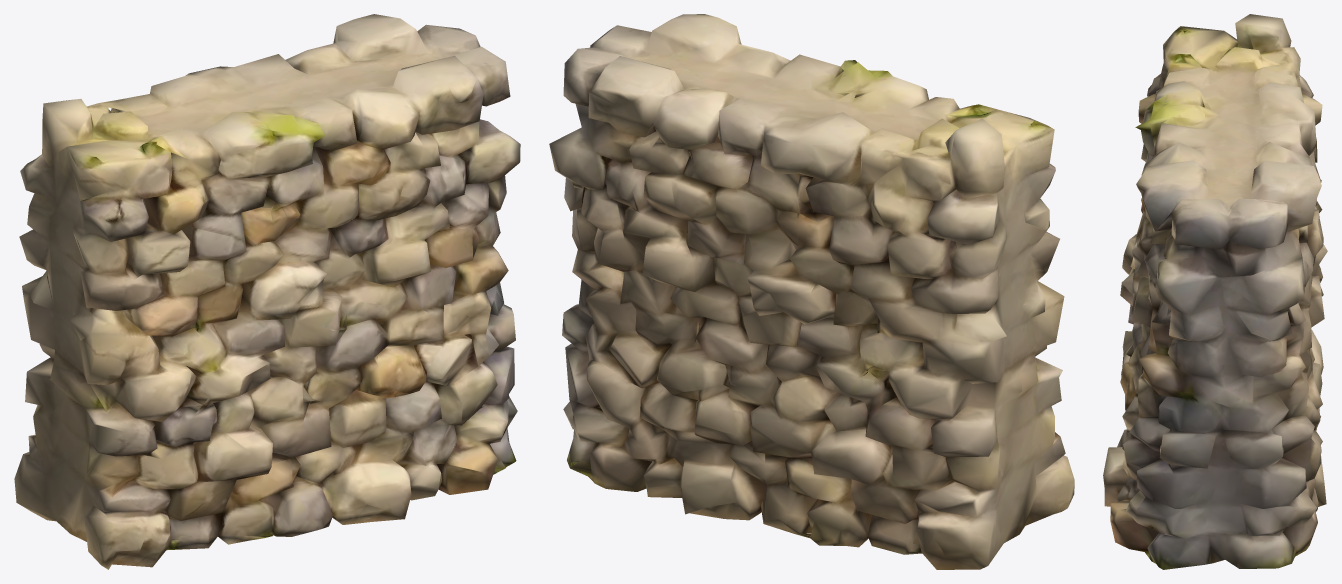
The model's file is wall-high.glb.
3 renders of one model, left to right at view 1: azimuth 30°, elevation 25°; view 2: azimuth 150°, elevation 25°; view 3: azimuth 270°, elevation 25°, orthographic. The views are drawn at different scales.
Visible parts, largest first — view 1: tripo_node_3a8524d1-698c-411f-b315-bb82bf24e875; view 2: tripo_node_3a8524d1-698c-411f-b315-bb82bf24e875; view 3: tripo_node_3a8524d1-698c-411f-b315-bb82bf24e875.
Boxes of the visible parts, box(x1,y1,x2,y2) form: tripo_node_3a8524d1-698c-411f-b315-bb82bf24e875: box(14, 14, 520, 569); tripo_node_3a8524d1-698c-411f-b315-bb82bf24e875: box(549, 14, 1074, 569); tripo_node_3a8524d1-698c-411f-b315-bb82bf24e875: box(1103, 14, 1327, 569).
Bounding box in the file's own units: 1 × 0.9115 × 0.4919.
Materials: 1 (1 with a texture image).
